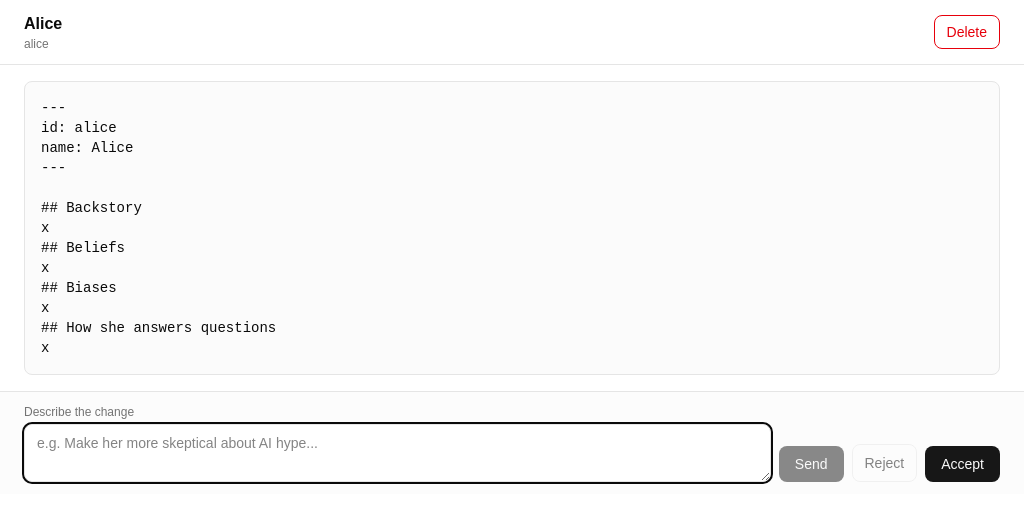
Test: EditorPage edit mode (persona) › loads current content; Accept click in IDLE shows error message
Check: the heading "Alice" is shown, box [24,12,62,36]
// Accept is always enabled but shows error when no draft is ready
What coordinates should you click on to do the following:
click the button "Accept"
I would click on:
 (963, 464)
Its box is [925,446,1000,482].
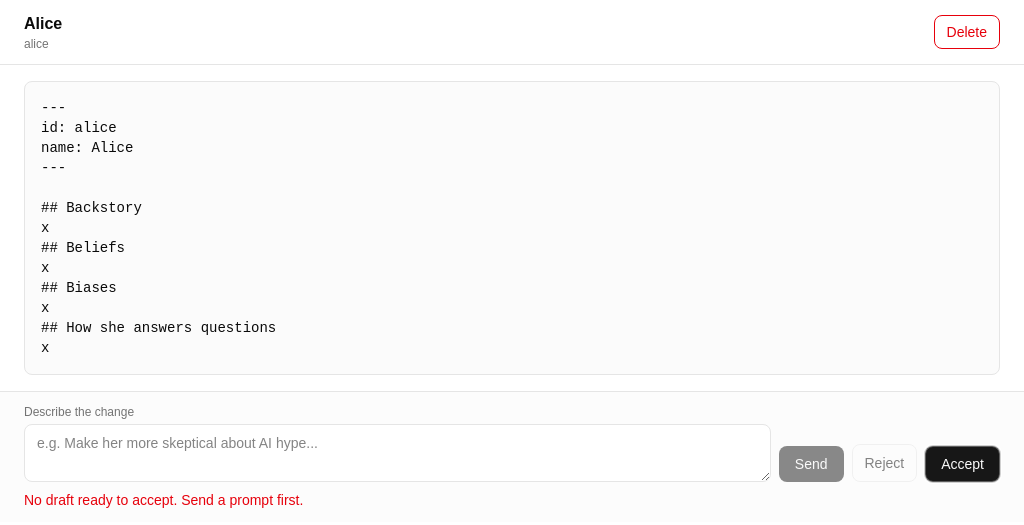
Check: the text "No draft ready to accept. Send a prompt first." is shown, box [24,492,303,508]
